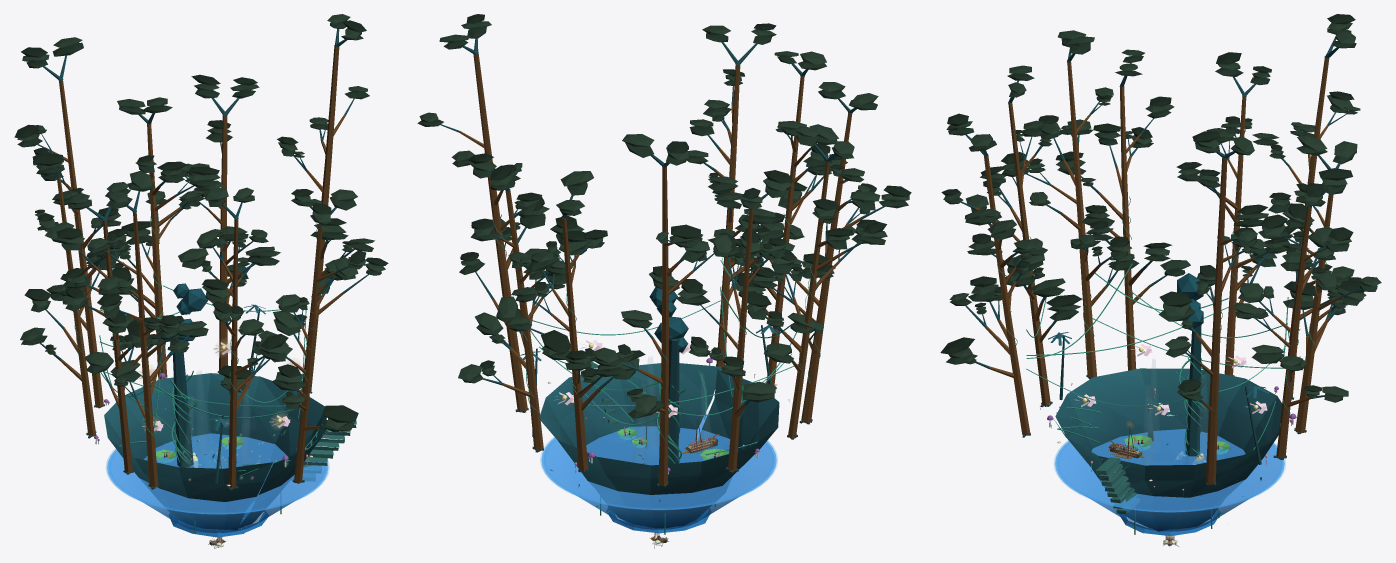
File: moebiusSwamp.glb
3 views of the same model, side by side, from view 1: azimuth 30°, elevation 25°; view 2: azimuth 150°, elevation 25°; view 3: azimuth 270°, elevation 25° (orthographic). The views are drawn at different scales.
Parts seen in each view (by area): view 1: swamp-sinkhole-wall, swamp-underground-waterline, swamp-water-volume, world-tree-trunk, n2356, swamp-lake-floor, n1758, n1759, n53; view 2: swamp-sinkhole-wall, swamp-underground-waterline, swamp-water-volume, world-tree-trunk, n2356, swamp-lake-floor, n1760; view 3: swamp-sinkhole-wall, swamp-underground-waterline, swamp-water-volume, world-tree-trunk, n2356, n1758, n1759, swamp-lake-floor, n1331.
Boxes of the visible parts, <box> form: swamp-sinkhole-wall: <box>104,373,326,529</box>; swamp-underground-waterline: <box>107,433,328,514</box>; swamp-water-volume: <box>111,452,323,532</box>; world-tree-trunk: <box>173,352,193,467</box>; n2356: <box>106,448,329,514</box>; swamp-lake-floor: <box>169,501,268,537</box>; n1758: <box>197,372,210,452</box>; n1759: <box>239,389,250,465</box>; n53: <box>322,405,358,422</box>; swamp-sinkhole-wall: <box>540,363,779,527</box>; swamp-underground-waterline: <box>541,416,776,509</box>; swamp-water-volume: <box>546,425,771,529</box>; world-tree-trunk: <box>668,338,679,463</box>; n2356: <box>540,414,777,509</box>; swamp-lake-floor: <box>607,507,710,533</box>; n1760: <box>701,373,713,460</box>; swamp-sinkhole-wall: <box>1054,368,1289,531</box>; swamp-underground-waterline: <box>1055,429,1284,512</box>; swamp-water-volume: <box>1060,443,1279,531</box>; world-tree-trunk: <box>1185,324,1201,464</box>; n2356: <box>1054,440,1285,512</box>; n1758: <box>1196,376,1207,463</box>; n1759: <box>1142,386,1153,464</box>; swamp-lake-floor: <box>1119,509,1219,535</box>; n1331: <box>1205,429,1217,484</box>.
Size of the model in its own units: 63.86 by 77.91 by 63.47.
Materials: 459 (95 with a texture image).
